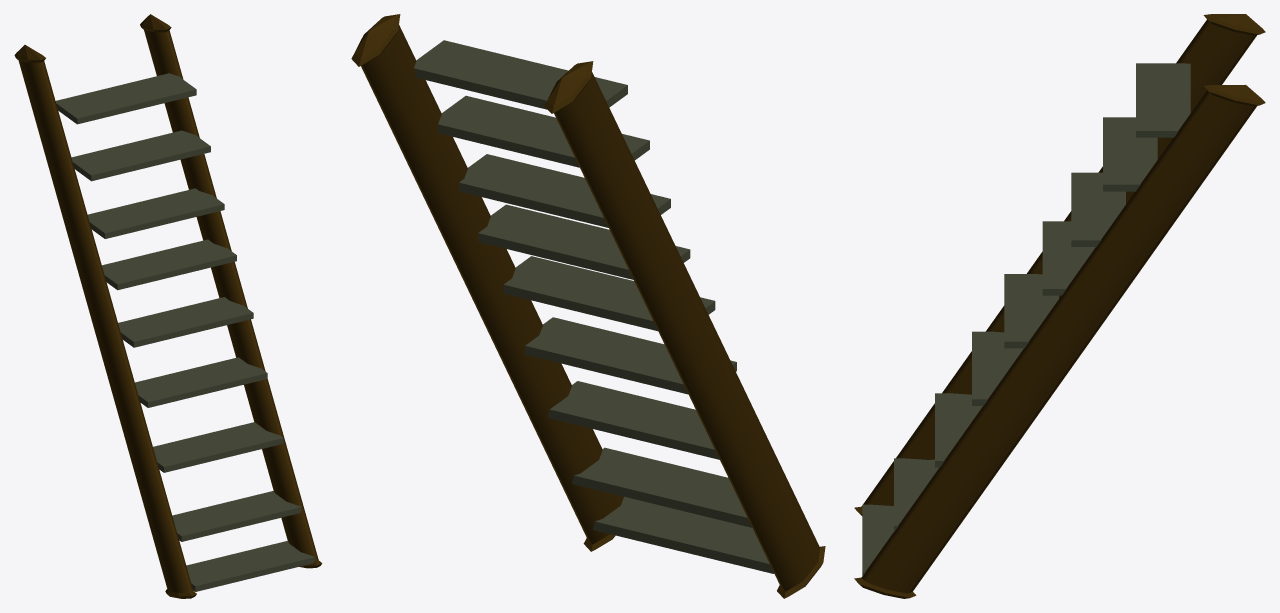
The model's file is 3D_BUILD_STAIRPIECE2.FBX.
3 views of the same model, side by side, from view 1: azimuth 30°, elevation 25°; view 2: azimuth 150°, elevation 25°; view 3: azimuth 270°, elevation 25° (orthographic). The views are drawn at different scales.
Parts seen in each view (by area): view 1: Box018, Cylinder002; view 2: Box018, Cylinder002; view 3: Cylinder002, Box018.
Boxes of the visible parts, left/top/right/bottom form: Box018: left=55, top=73, right=314, bottom=591; Cylinder002: left=14, top=14, right=322, bottom=598; Box018: left=414, top=40, right=773, bottom=573; Cylinder002: left=351, top=14, right=825, bottom=598; Cylinder002: left=854, top=14, right=1265, bottom=598; Box018: left=862, top=63, right=1190, bottom=576.
Size of the model in its own units: 61.93 by 184 by 134.
